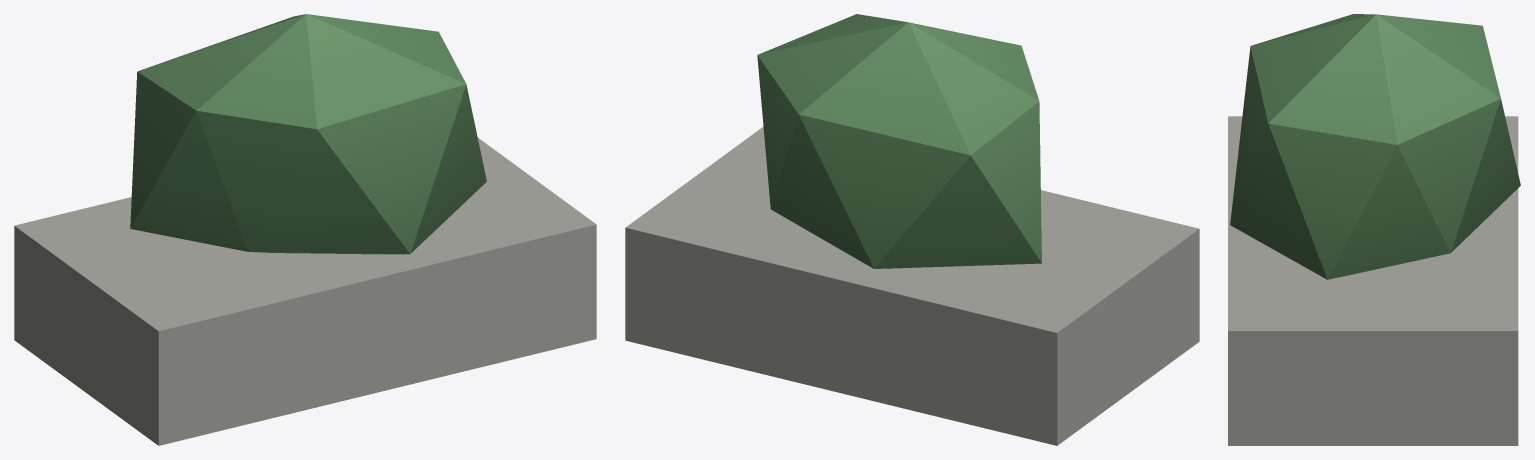
The model's file is canteiro_calcadao.glb.
3 renders of one model, left to right at view 1: azimuth 30°, elevation 25°; view 2: azimuth 150°, elevation 25°; view 3: azimuth 270°, elevation 25°, orthographic.
Visible parts, largest first — view 1: Malha_0; view 2: Malha_0; view 3: Malha_0.
Part boxes in pixels (x1=…): Malha_0: x1=14, y1=14, x2=596, y2=445; Malha_0: x1=625, y1=14, x2=1199, y2=445; Malha_0: x1=1228, y1=14, x2=1520, y2=445.
Bounding box in the file's own units: 1.4 × 0.9895 × 0.8072.
